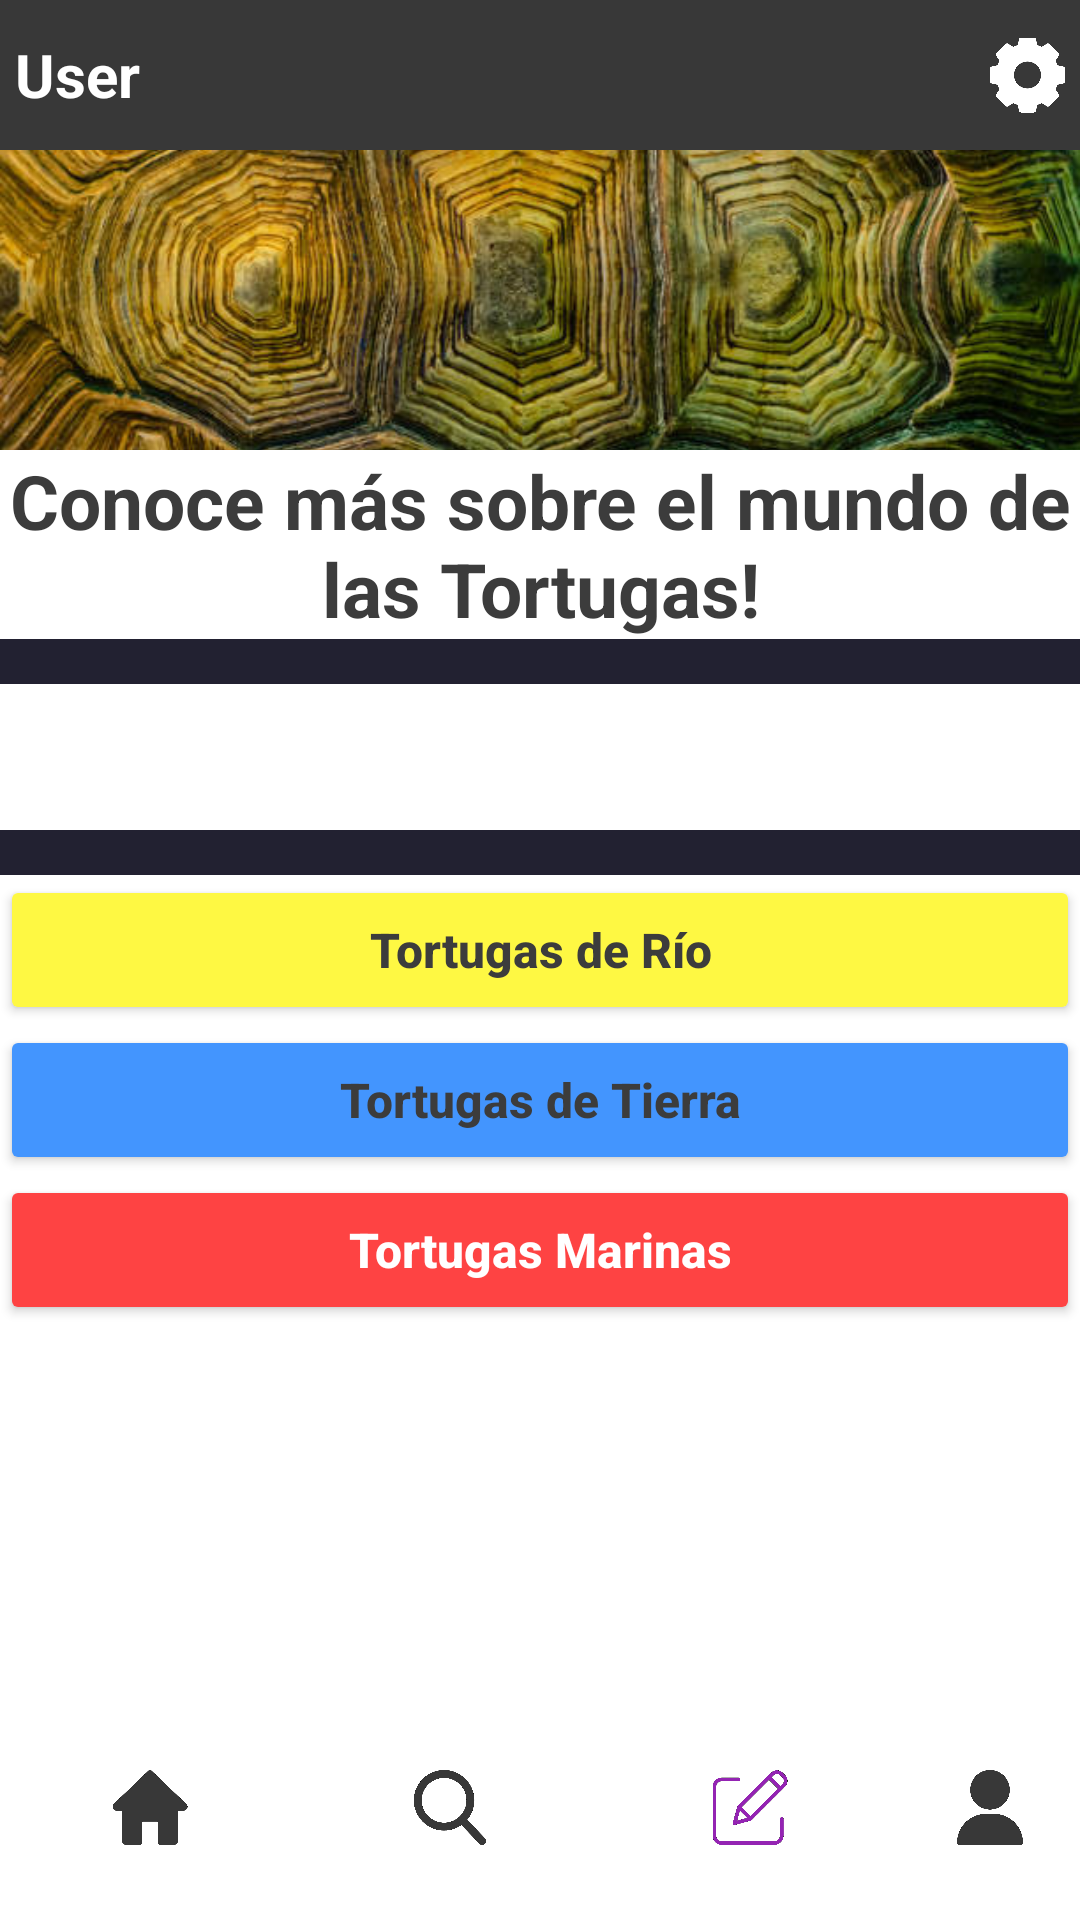

Locate icon controls on the screen. Image size 1080x1920, boxes as (x1, y1, x2, y2).
edit: (713, 1770, 788, 1845)
home: (113, 1770, 188, 1845)
search: (414, 1770, 486, 1845)
setting: (990, 38, 1065, 113)
user: (957, 1770, 1023, 1845)
